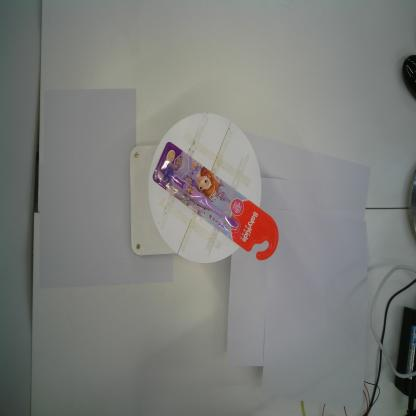Personal Hygiene: (152, 141, 280, 261)
